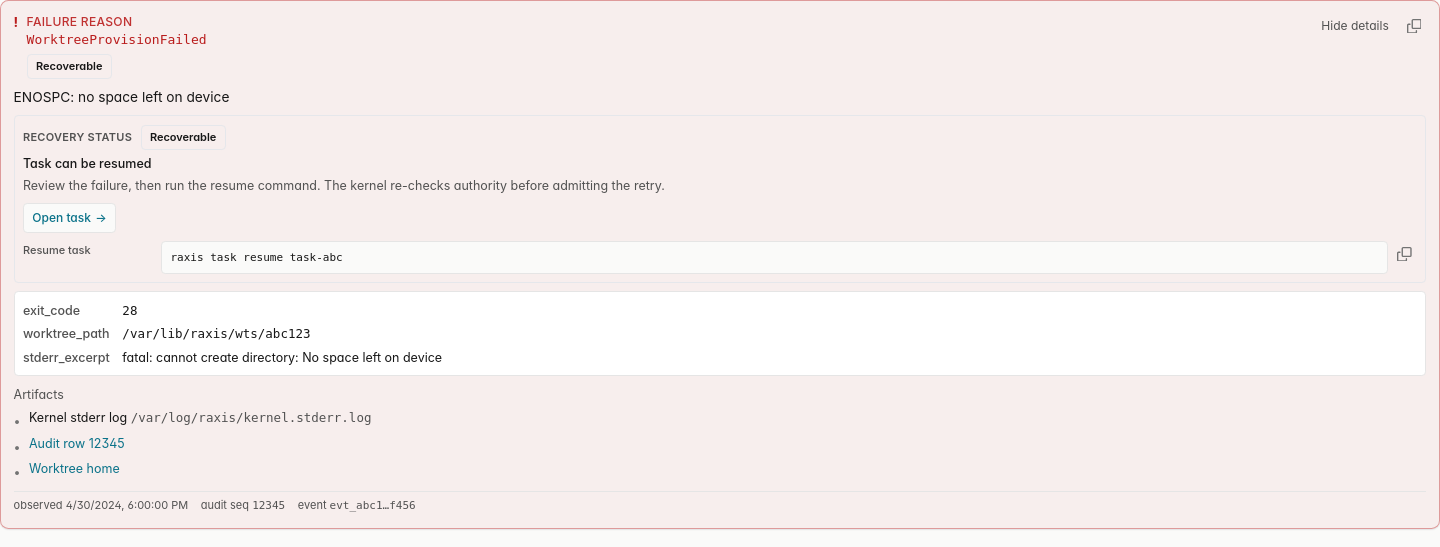
Test: <FailureReasonPanel> › collapses details when collapsible=true
Expected: the element with test id "failure-fields" is shown, [14,292,1426,376]
What coordinates should you click on to do the following:
click the button "Hide details"
I would click on:
 (1355, 26)
Its box is [1313,16,1397,37].
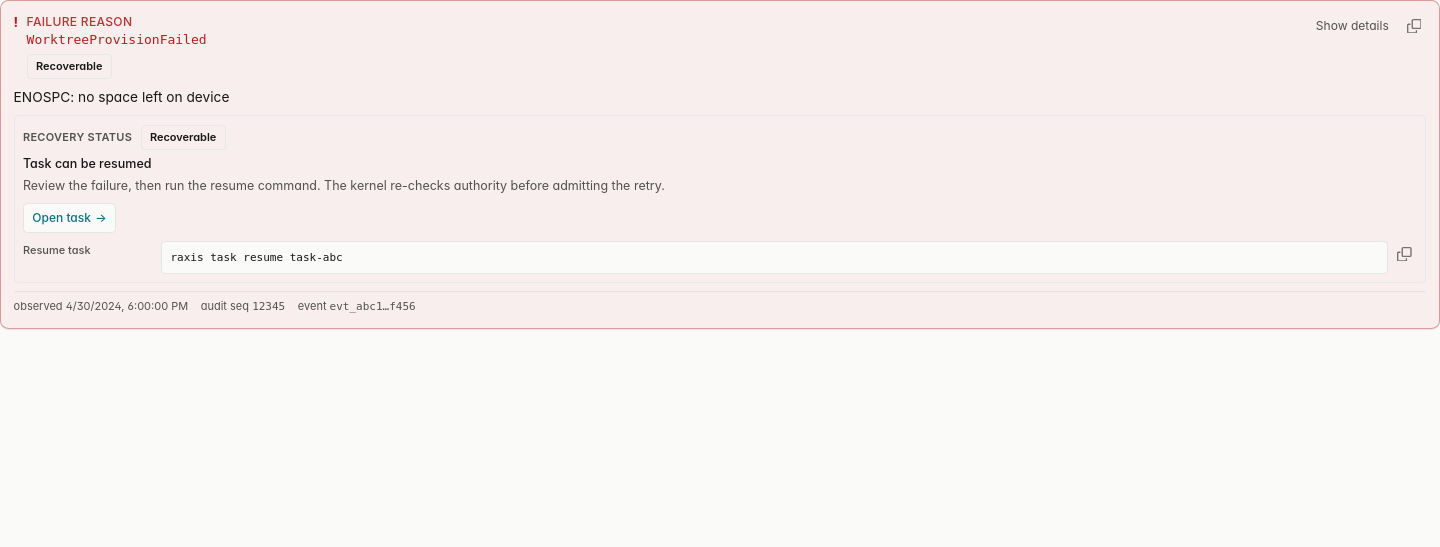
Expected: the element with test id "failure-recovery-actions" is shown, [14,115,1426,283]
Result: the element with test id "failure-fields" is gone
Result: the element with test id "failure-artifacts" is gone
What coordinates should you click on to do the following:
click the button "Show details"
I would click on:
 (1352, 26)
Its box is [1308,16,1397,37].
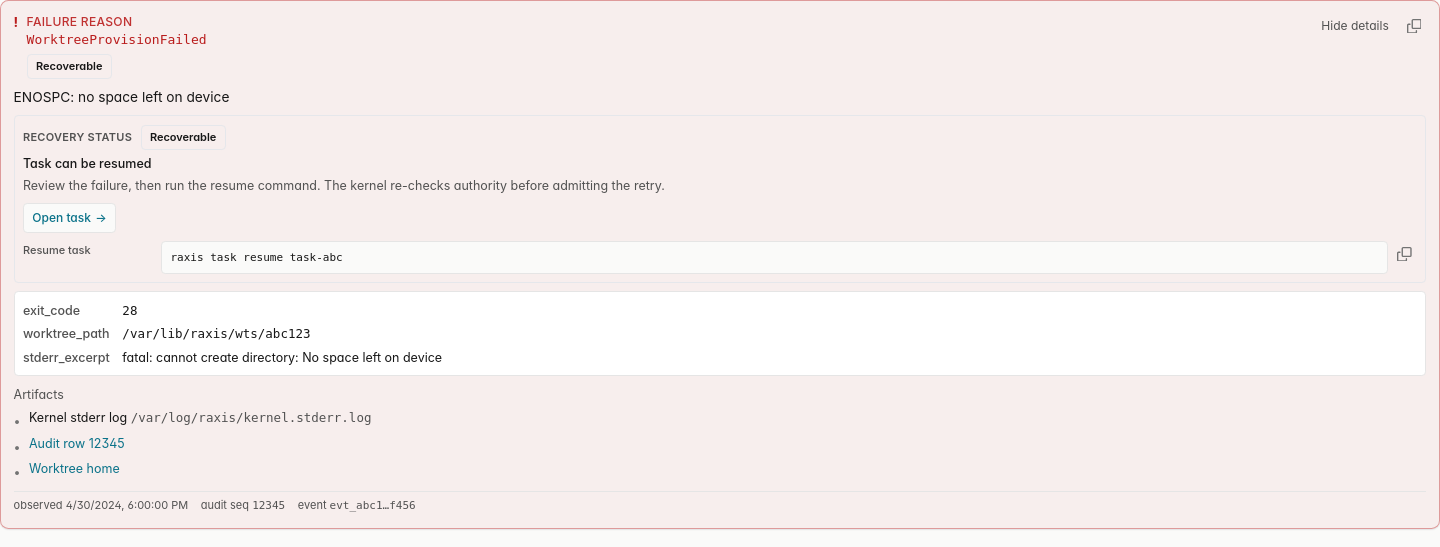
Result: the element with test id "failure-fields" is shown at [14,292,1426,376]
